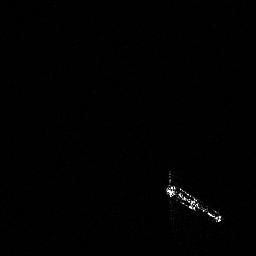ship: (164, 169, 222, 225)
